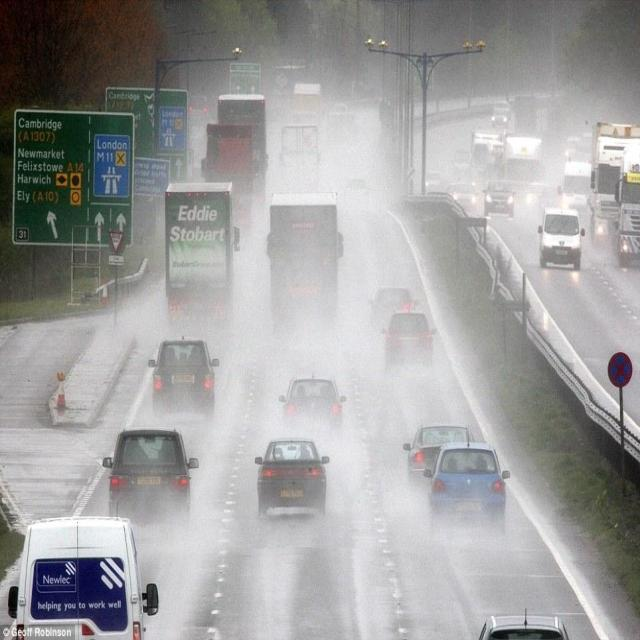Car: (101, 428, 199, 523), (422, 442, 511, 534), (253, 437, 330, 519), (149, 336, 218, 416), (403, 422, 475, 483), (277, 373, 346, 428), (382, 311, 436, 369), (476, 614, 569, 640), (368, 286, 414, 326), (448, 180, 482, 216), (482, 180, 514, 218), (345, 178, 369, 198)
Truck: (264, 190, 345, 336), (162, 177, 240, 319), (589, 116, 640, 239), (198, 120, 258, 208), (214, 93, 270, 181), (502, 133, 548, 210), (275, 120, 328, 186), (615, 143, 640, 268), (471, 128, 504, 188), (291, 80, 325, 124), (513, 92, 538, 130)
Van: (8, 515, 160, 640), (536, 207, 586, 270), (558, 159, 594, 216)
